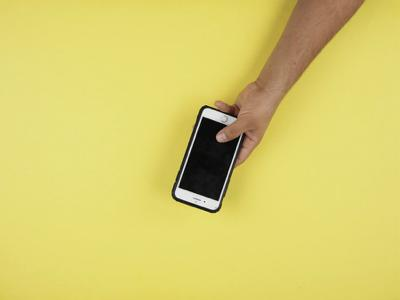cell-phone: (169, 105, 246, 217)
